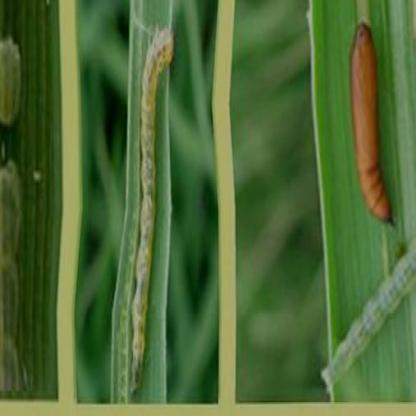leaf-folder: (339, 22, 405, 377), (128, 11, 168, 394)
